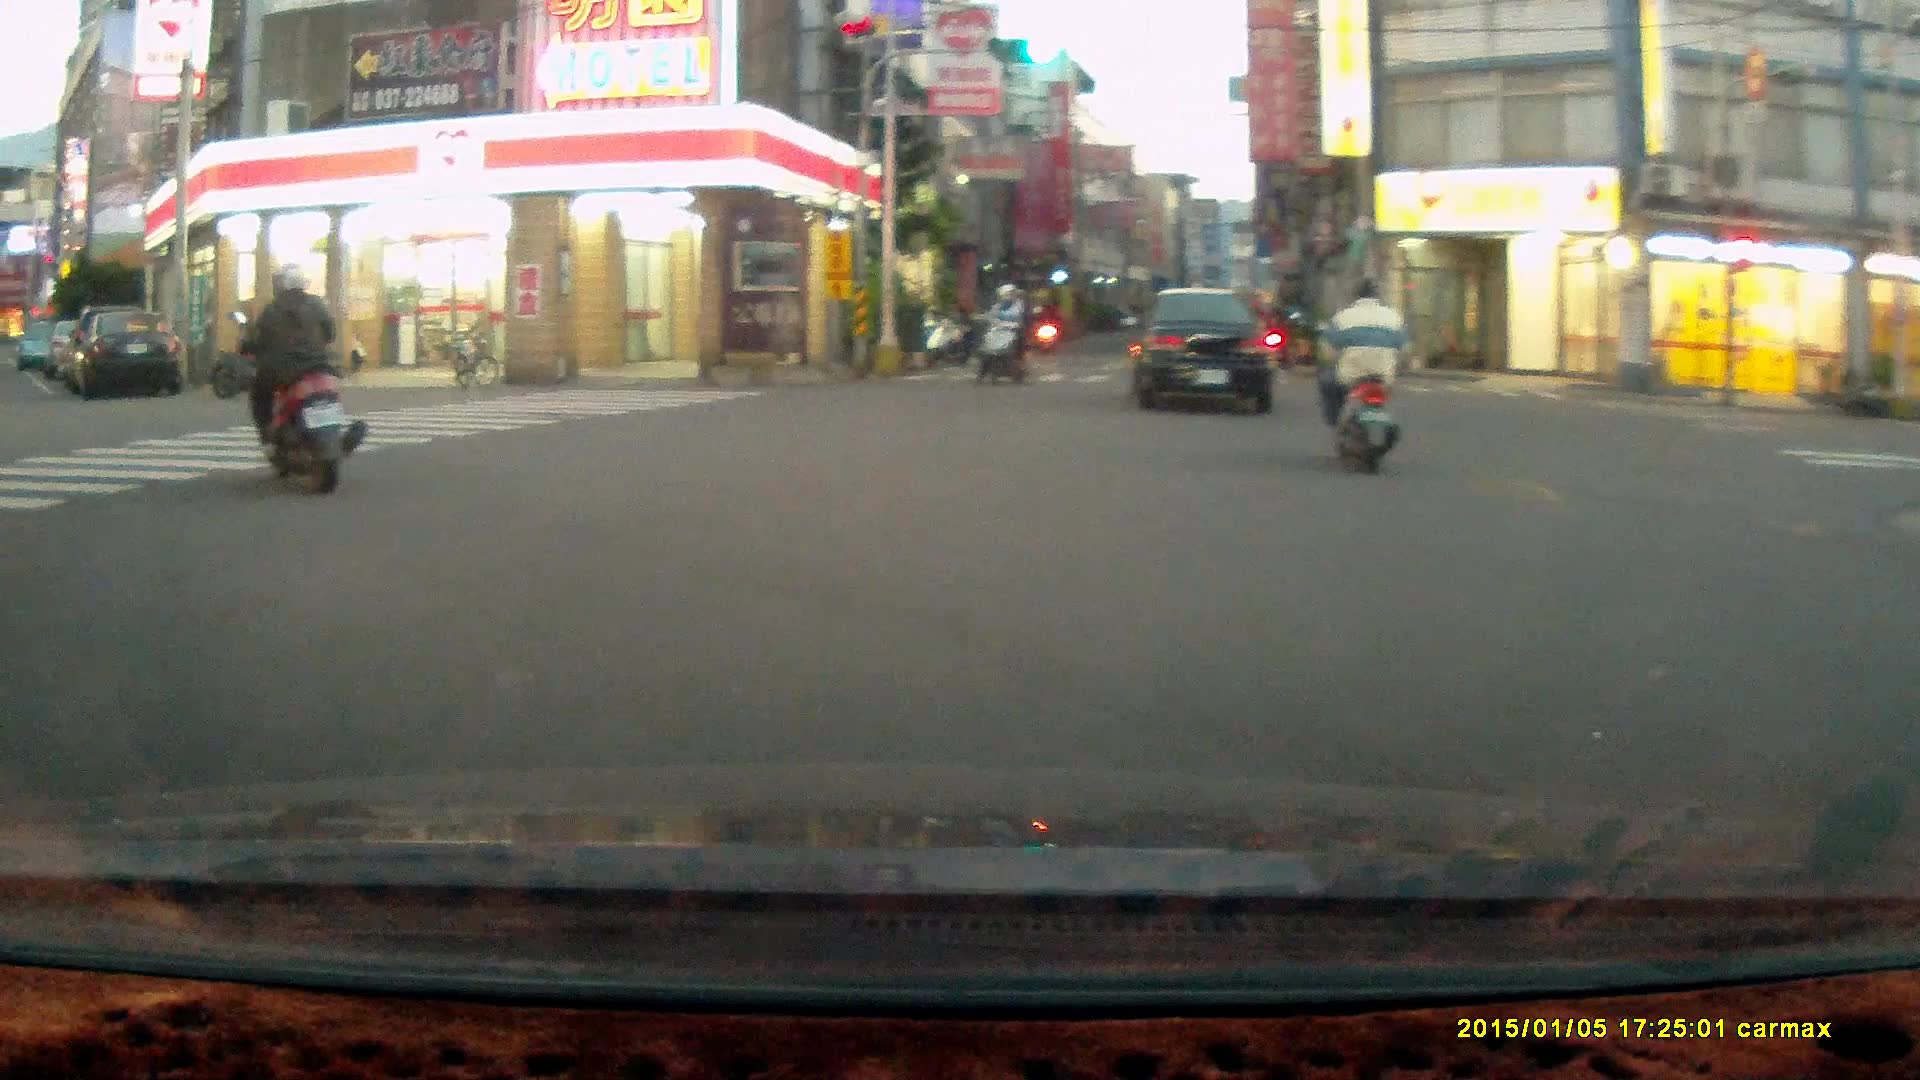rider: (226, 264, 364, 497), (1315, 276, 1405, 475), (974, 282, 1033, 388)
vehicle: (1130, 284, 1279, 419), (78, 308, 192, 396)
